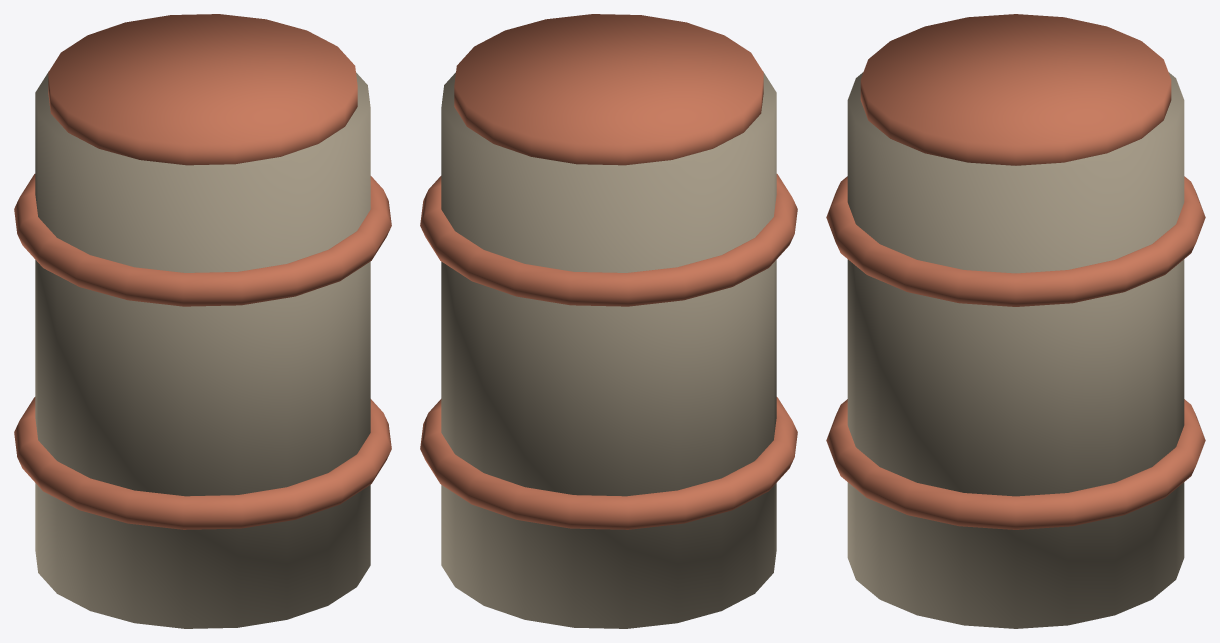
Rendered from barrel.glb.
3 views of the same model, side by side, from view 1: azimuth 30°, elevation 25°; view 2: azimuth 150°, elevation 25°; view 3: azimuth 270°, elevation 25° (orthographic).
Parts seen in each view (by area): view 1: barrel; view 2: barrel; view 3: barrel.
Part boxes in pixels (x1,y1,x2,y2): barrel: (14, 14, 391, 628); barrel: (420, 14, 797, 628); barrel: (826, 14, 1205, 628).
Bounding box in the file's own units: 0.586 × 0.815 × 0.586.
